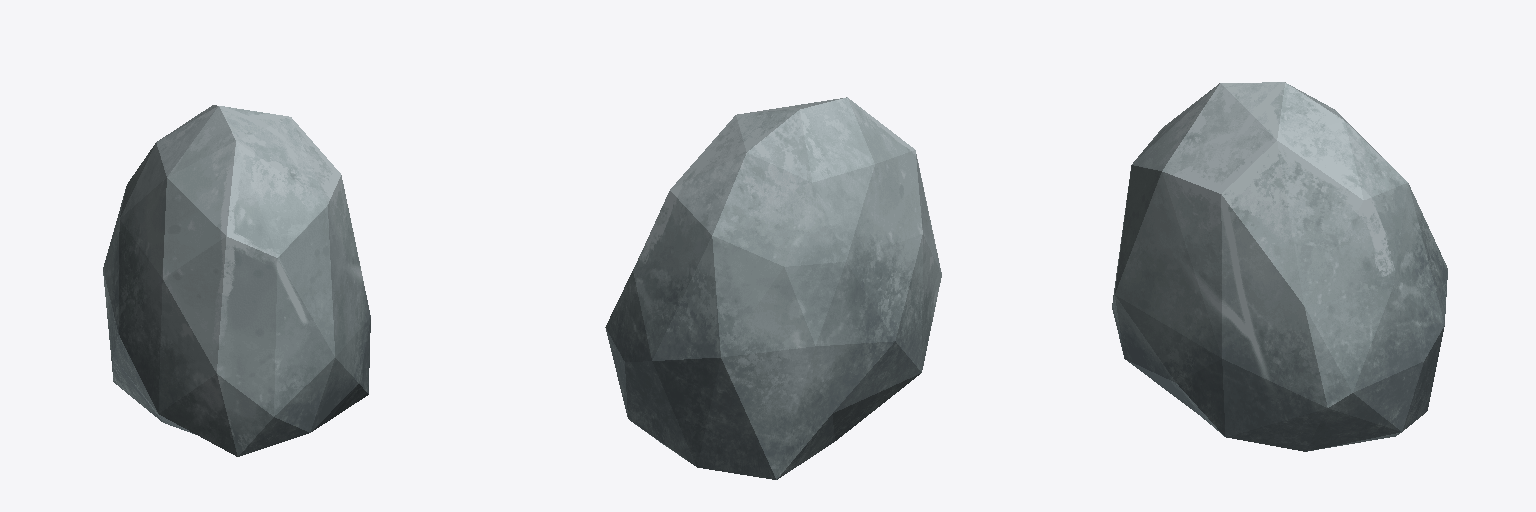
3 views of the same model, side by side, from view 1: azimuth 30°, elevation 25°; view 2: azimuth 150°, elevation 25°; view 3: azimuth 270°, elevation 25° (orthographic).
Parts seen in each view (by area): view 1: rock.013; view 2: rock.013; view 3: rock.013.
Part boxes in pixels (bbox=[...]): rock.013: bbox=[103, 105, 370, 456]; rock.013: bbox=[605, 97, 941, 479]; rock.013: bbox=[1112, 82, 1447, 451].
Size of the model in its own units: 5.86 by 6.64 by 6.45.
1 materials, 1 textured.